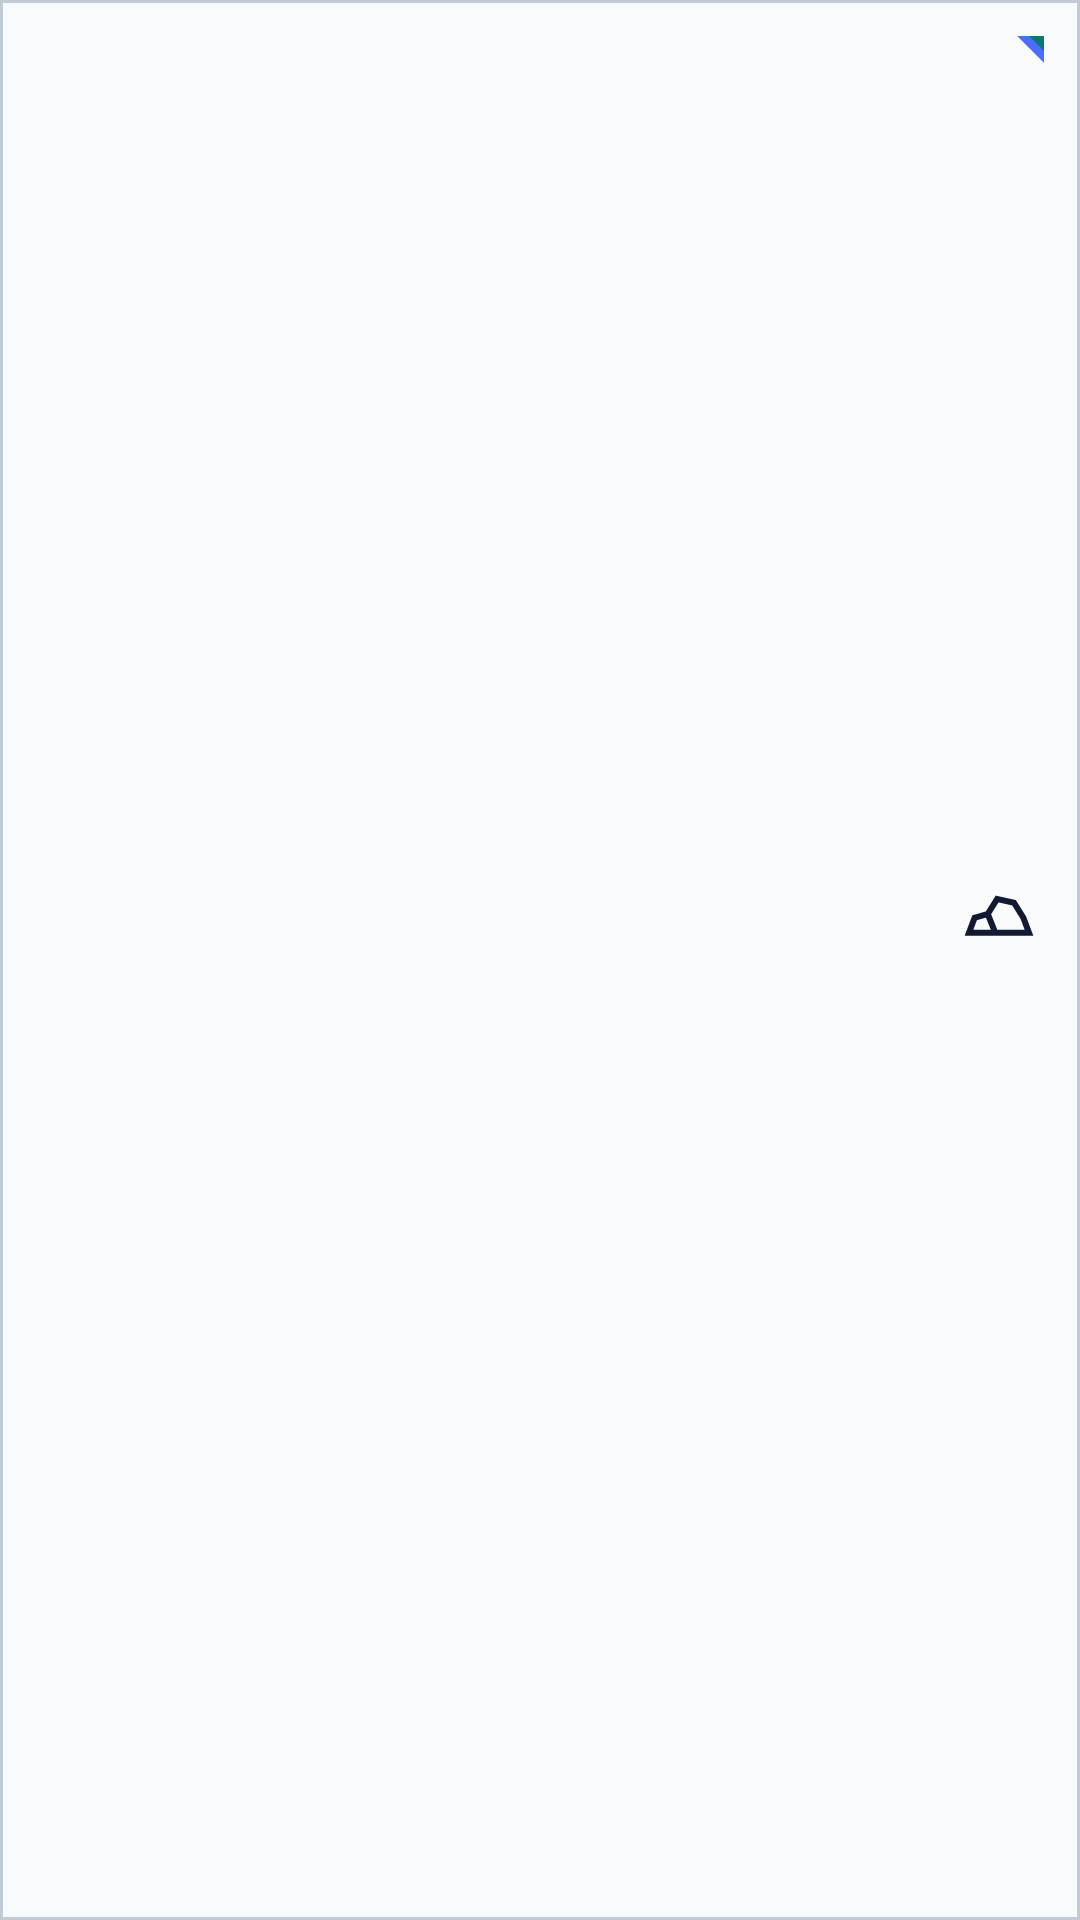

Point at icon controls on the screen. Image size 1080 × 1920, points as (x,y).
widget fold: (1030,49)
